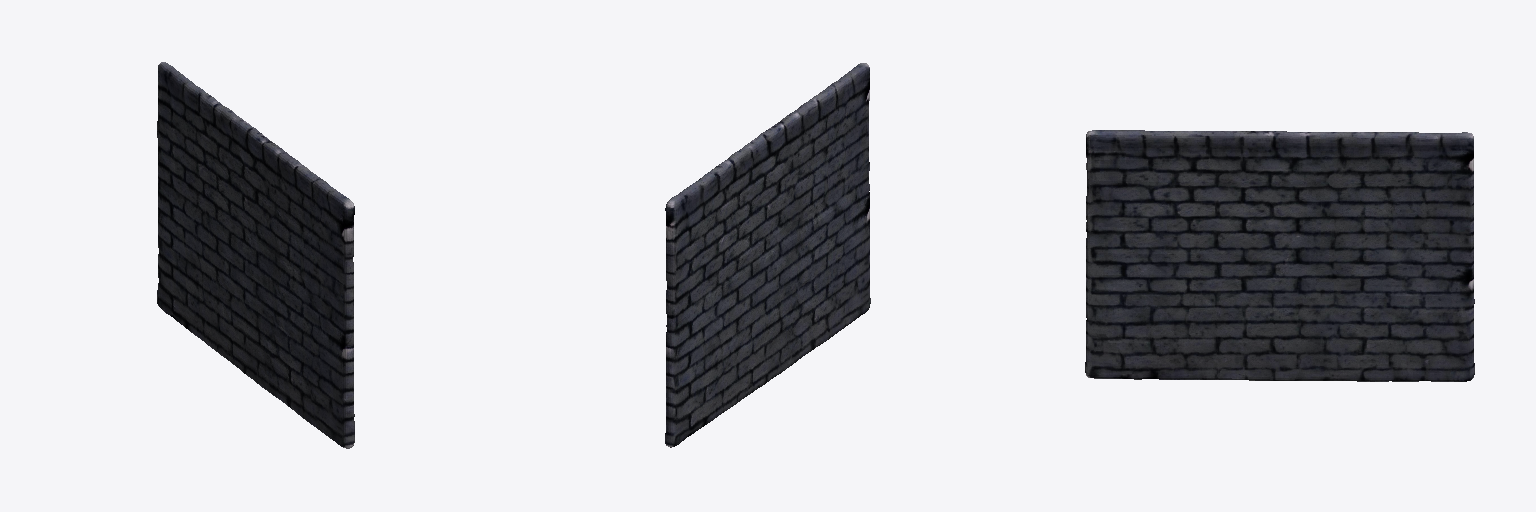
3 renders of one model, left to right at view 1: azimuth 30°, elevation 25°; view 2: azimuth 150°, elevation 25°; view 3: azimuth 270°, elevation 25°, orthographic.
Visible parts, largest first — view 1: mesh; view 2: mesh; view 3: mesh.
Part boxes in pixels (x1,y1,x2,y2): mesh: (157,62,354,448); mesh: (665,63,870,447); mesh: (1085,130,1474,381).
Bounding box in the file's own units: 0.0462 × 0.704 × 0.9989.
Materials: 1 (1 with a texture image).